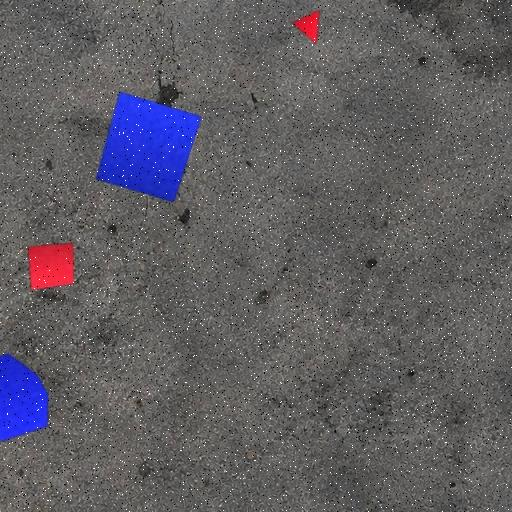BLUE_SQUARE: (96, 90, 202, 204)
RED_SQUARE: (27, 242, 75, 292)
